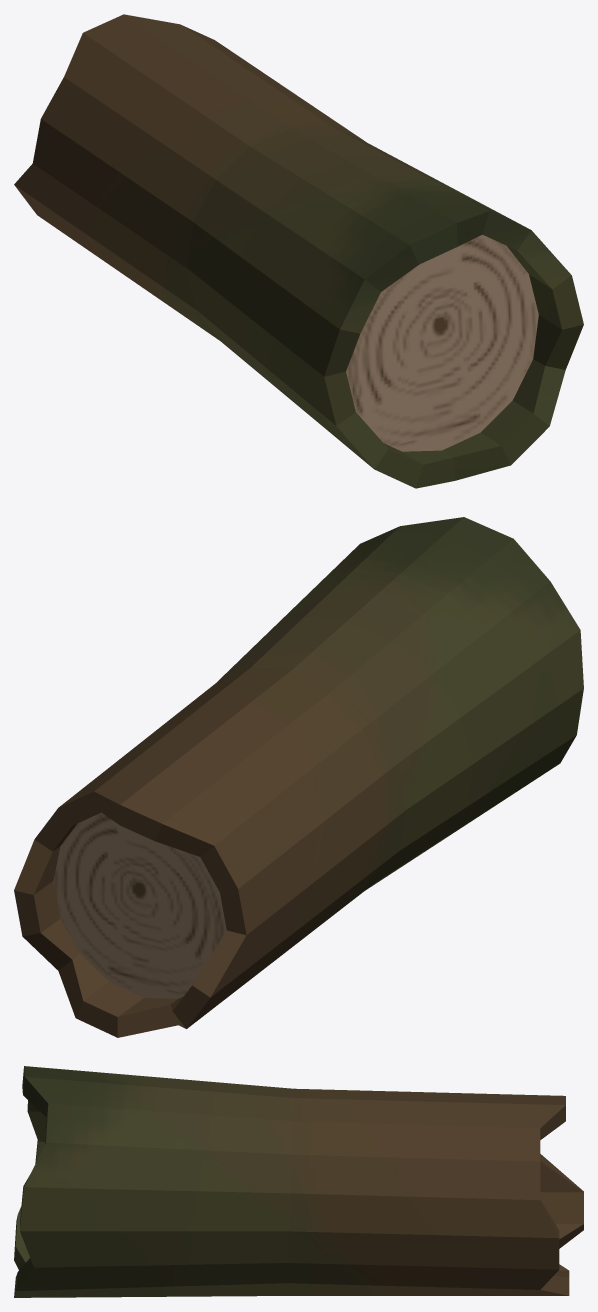
The model's file is Trunk_1.fbx.
The picture shows the model from 3 angles, top to bottom: view 1: azimuth 30°, elevation 25°; view 2: azimuth 150°, elevation 25°; view 3: azimuth 270°, elevation 25°; orthographic projection. The views are drawn at different scales.
Visible parts, largest first — view 1: Trunk 1; view 2: Trunk 1; view 3: Trunk 1.
Boxes of the visible parts, x1,y1,x2,y2 form: Trunk 1: (14, 14, 583, 488); Trunk 1: (14, 517, 583, 1037); Trunk 1: (14, 1066, 583, 1297).
Bounding box in the file's own units: 422 × 420 × 1032.
